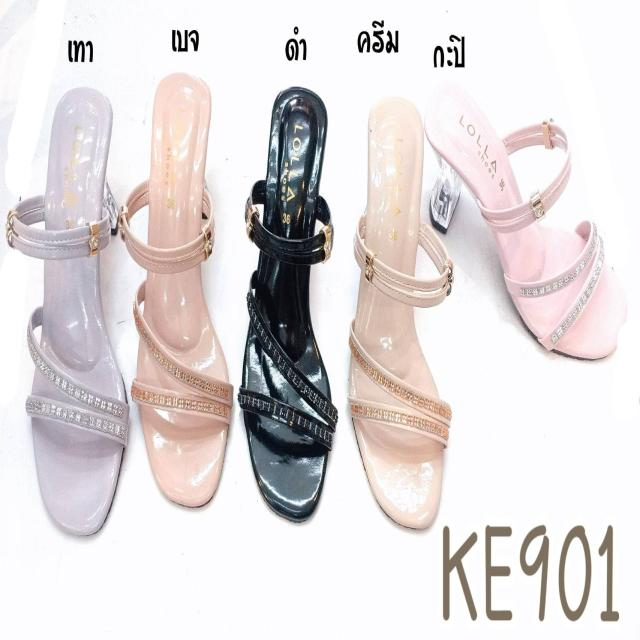bej: (121, 70, 234, 509)
black: (240, 86, 338, 524)
cream: (349, 96, 454, 531)
grey: (9, 84, 128, 536)
kapi: (422, 86, 626, 366)
